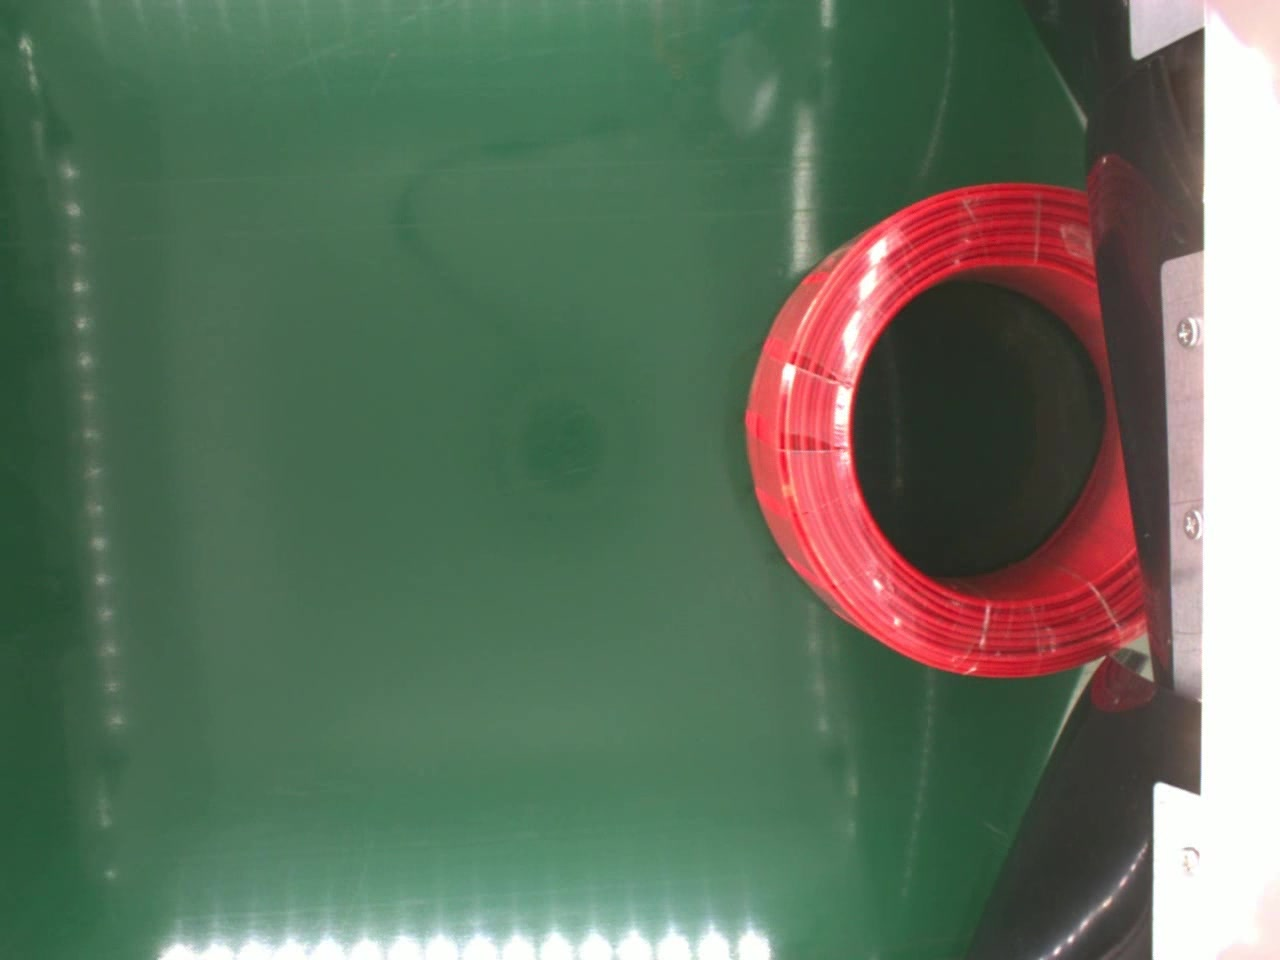red: (744, 178, 1155, 680)
